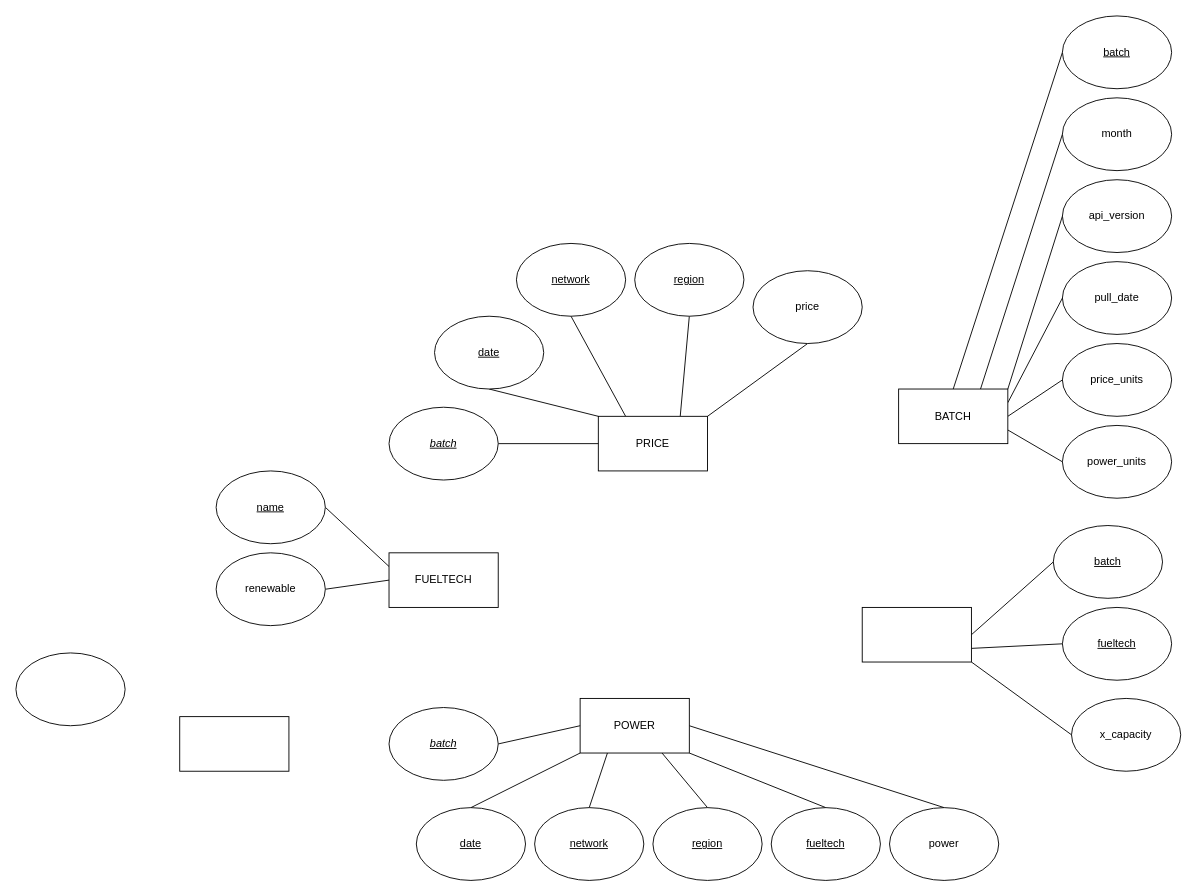
The diagram is 1197 pixels wide and 896 high, and some of its shapes have lost their labels. The centre of each missing label's shape, as x and y in pixels:
code: point 70,689
STATE: point 234,743
X_CAP: point 916,634
